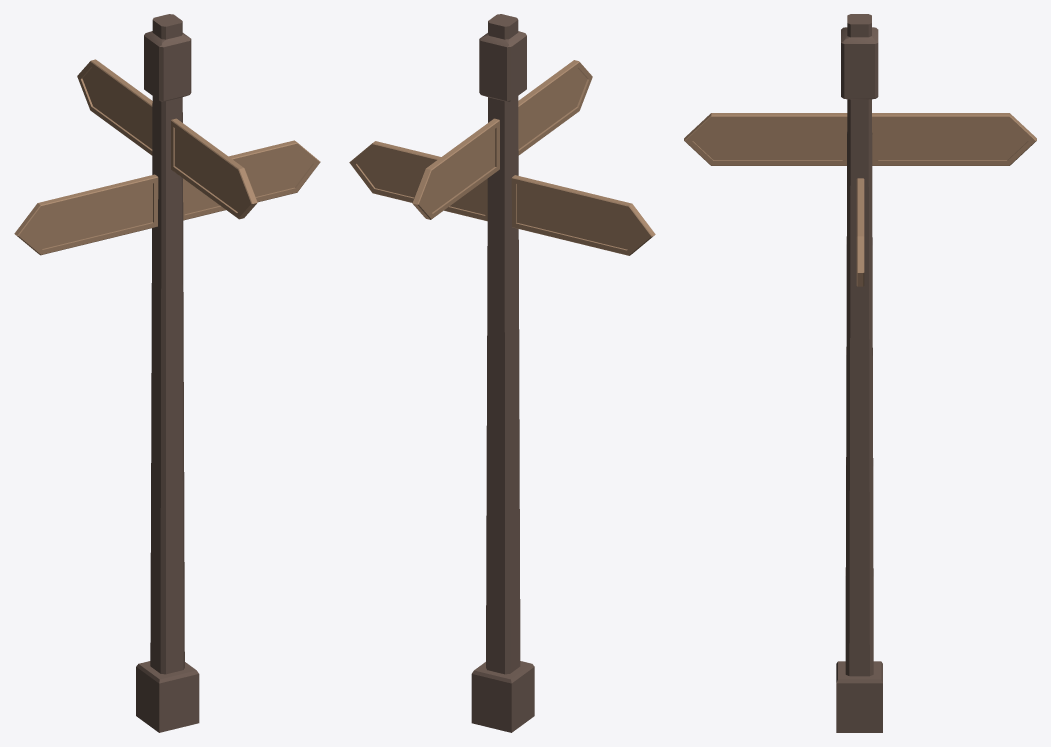
Rendered from streetsign_a004.glb.
3 renders of one model, left to right at view 1: azimuth 30°, elevation 25°; view 2: azimuth 150°, elevation 25°; view 3: azimuth 270°, elevation 25°, orthographic.
Parts seen in each view (by area): view 1: streetsign_a004; view 2: streetsign_a004; view 3: streetsign_a004.
Part boxes in pixels (<box>): streetsign_a004: <box>14,14,320,732</box>; streetsign_a004: <box>349,14,655,732</box>; streetsign_a004: <box>684,14,1036,732</box>.
Bounding box in the file's own units: 0.8721 × 1.92 × 0.8721.
Materials: 1 (1 with a texture image).
